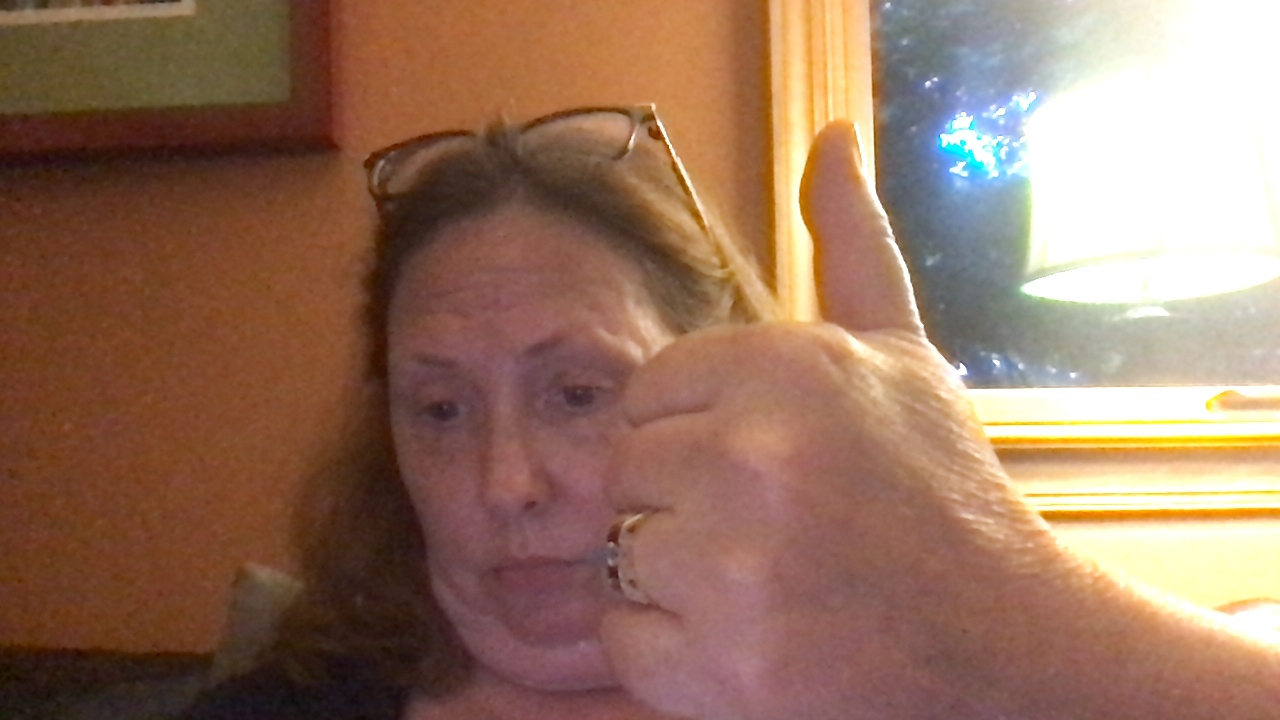thumbsup: (598, 115, 1049, 720)
